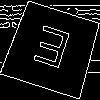E: (27, 24, 74, 79)
